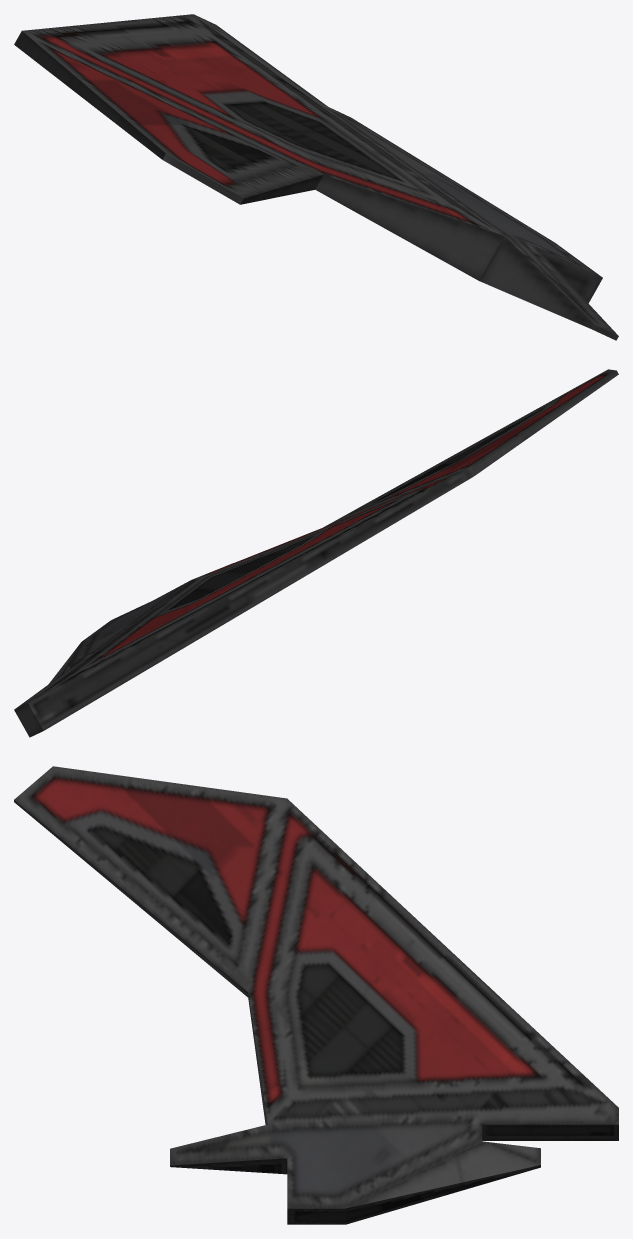
File: BFP_UpperFinLrg_Right.FBX
3 renders of one model, top to bottom at view 1: azimuth 30°, elevation 25°; view 2: azimuth 150°, elevation 25°; view 3: azimuth 270°, elevation 25°, orthographic. The views are drawn at different scales.
Parts seen in each view (by area): view 1: BFP_UpperFinLrg_Right; view 2: BFP_UpperFinLrg_Right; view 3: BFP_UpperFinLrg_Right.
Part boxes in pixels (left/top/right/bottom): BFP_UpperFinLrg_Right: left=14, top=14, right=618, bottom=340; BFP_UpperFinLrg_Right: left=14, top=369, right=618, bottom=737; BFP_UpperFinLrg_Right: left=14, top=766, right=618, bottom=1224.
Bounding box in the file's own units: 228 × 158 × 310.
Materials: 1 (1 with a texture image).
